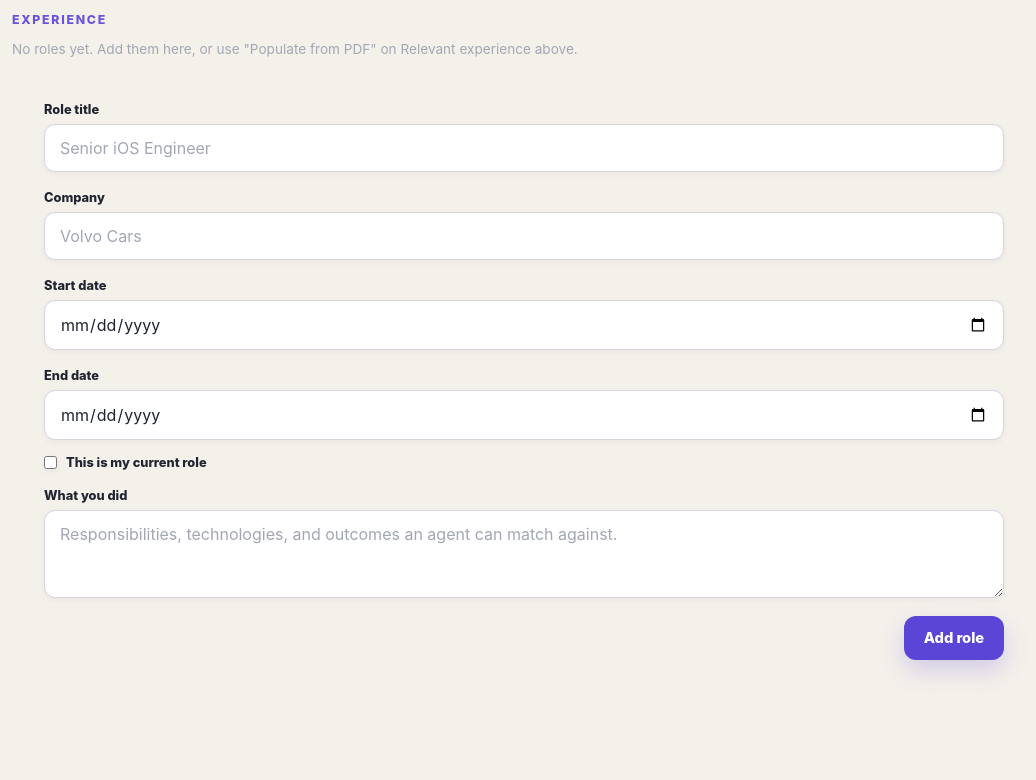
Test: ExperienceEditor › surfaces the server message when adding fails
Type "Dev" into the field labelled "Role title" at (524, 148), box 44,124 -> 1004,172
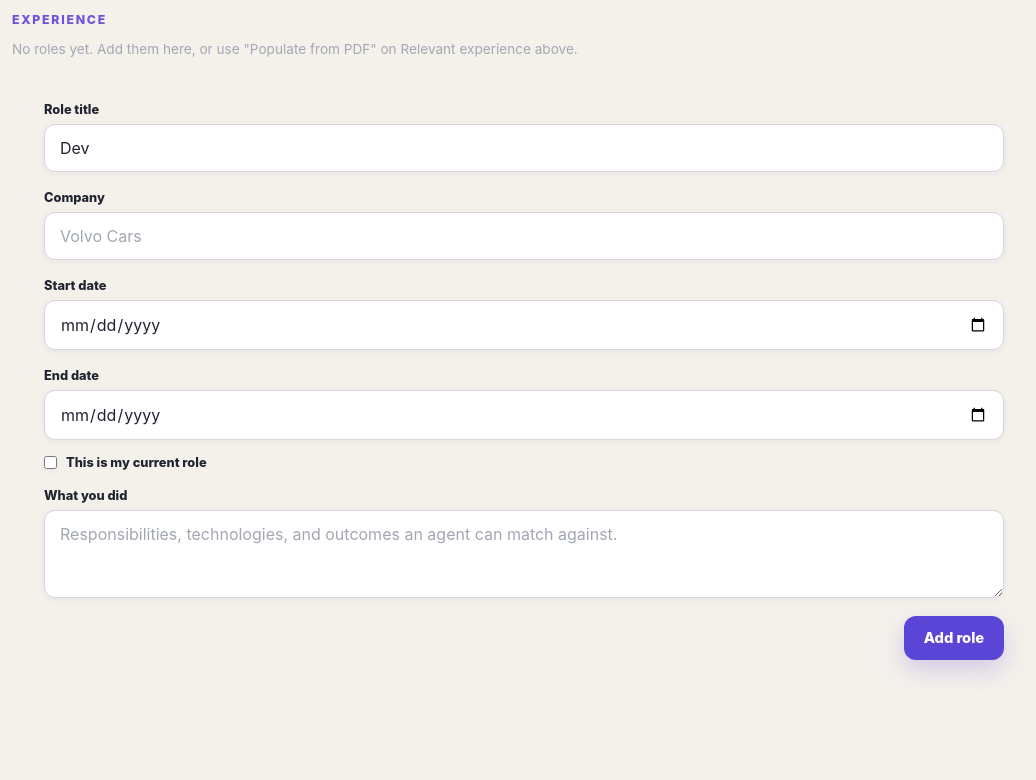
Type "Acme" into the field labelled "Company" at (524, 236), box 44,212 -> 1004,260
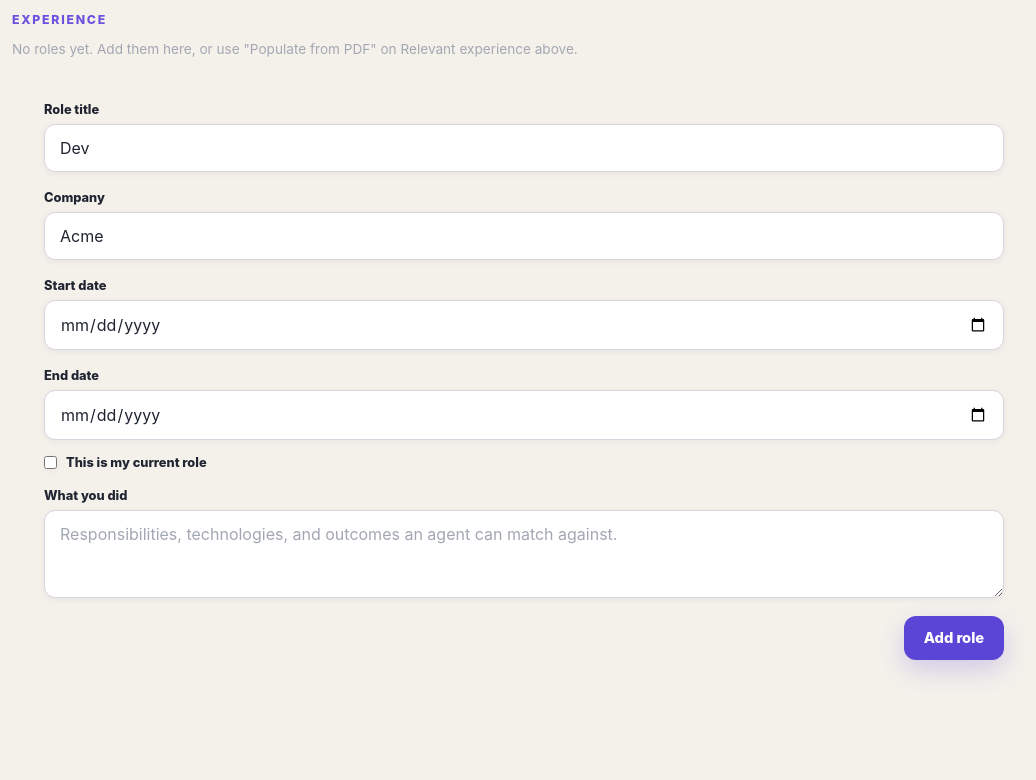
Click the button "Add role" at (954, 638), box 904,616 -> 1004,660
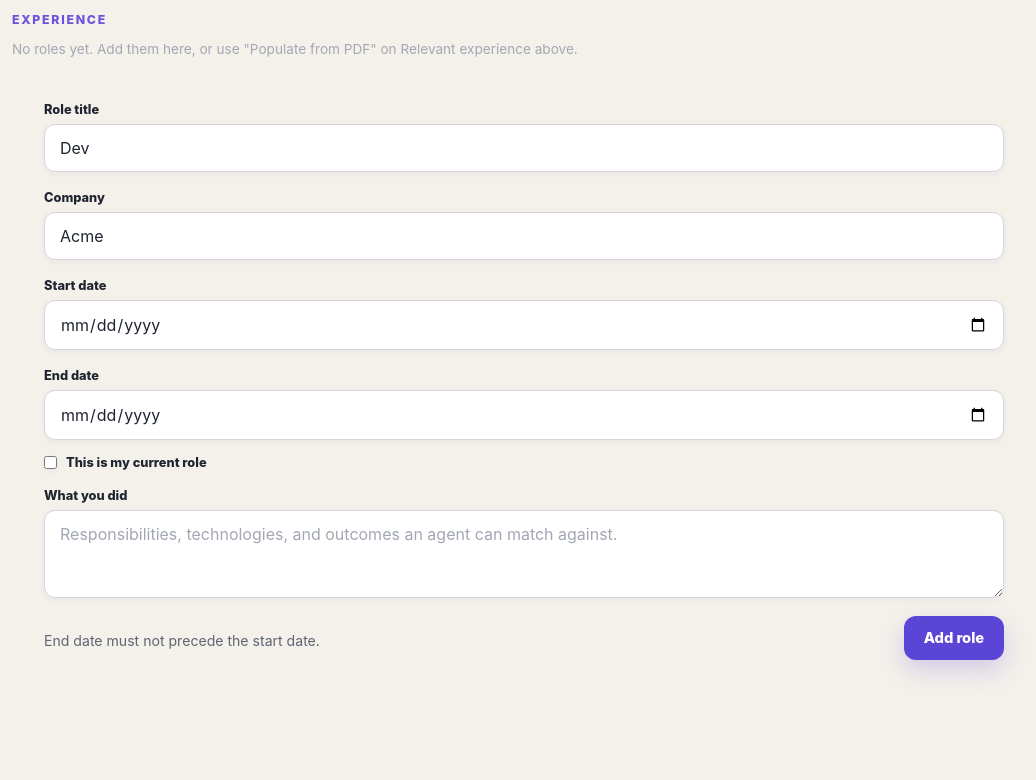
Result: the text "End date must not precede the start date." is shown at 44,632 -> 320,649
